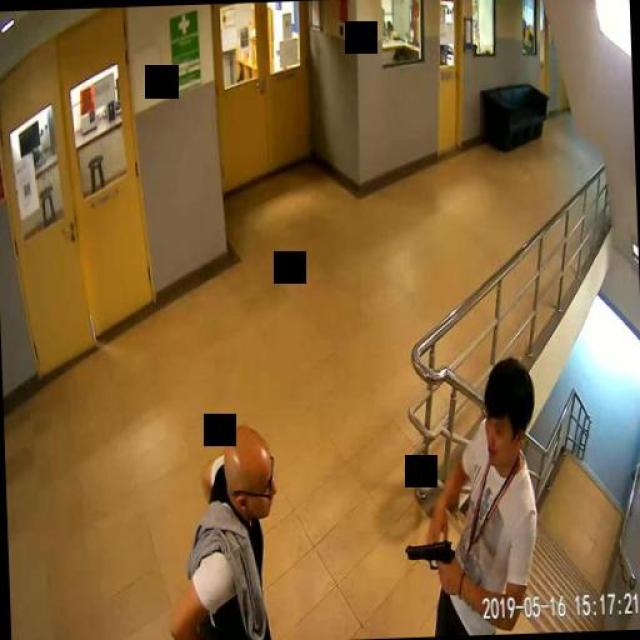gun: (404, 538, 455, 592)
